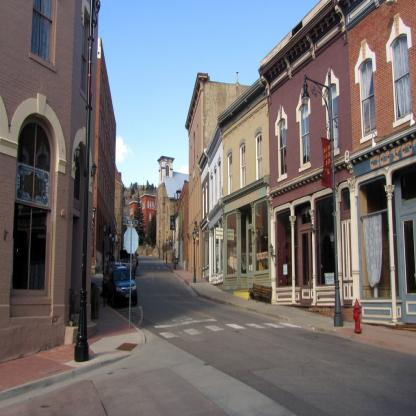Car: (108, 265, 139, 318)
